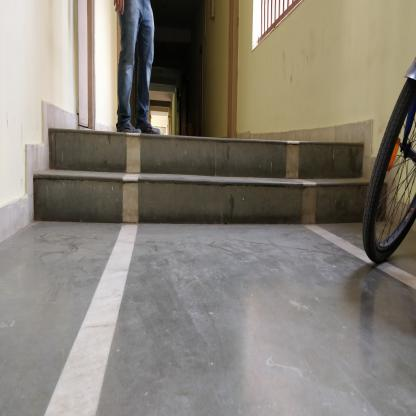stairs: (52, 133, 361, 230)
